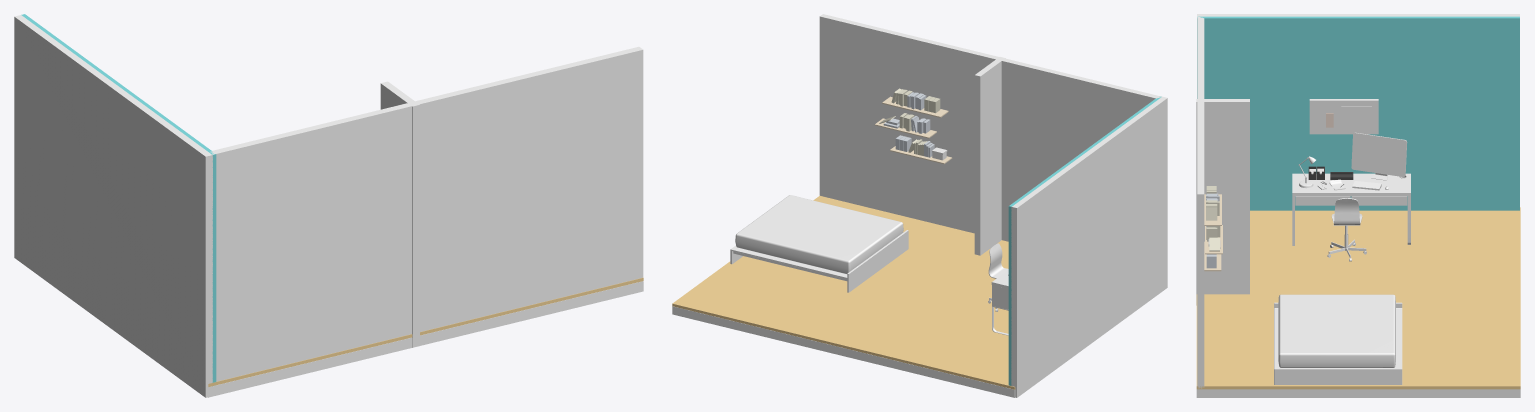
The model's file is named.glb.
3 renders of one model, left to right at view 1: azimuth 30°, elevation 25°; view 2: azimuth 150°, elevation 25°; view 3: azimuth 270°, elevation 25°, orthographic. The views are drawn at different scales.
Size of what is drawn, in the model's own units: 1892 by 997 by 1439.
